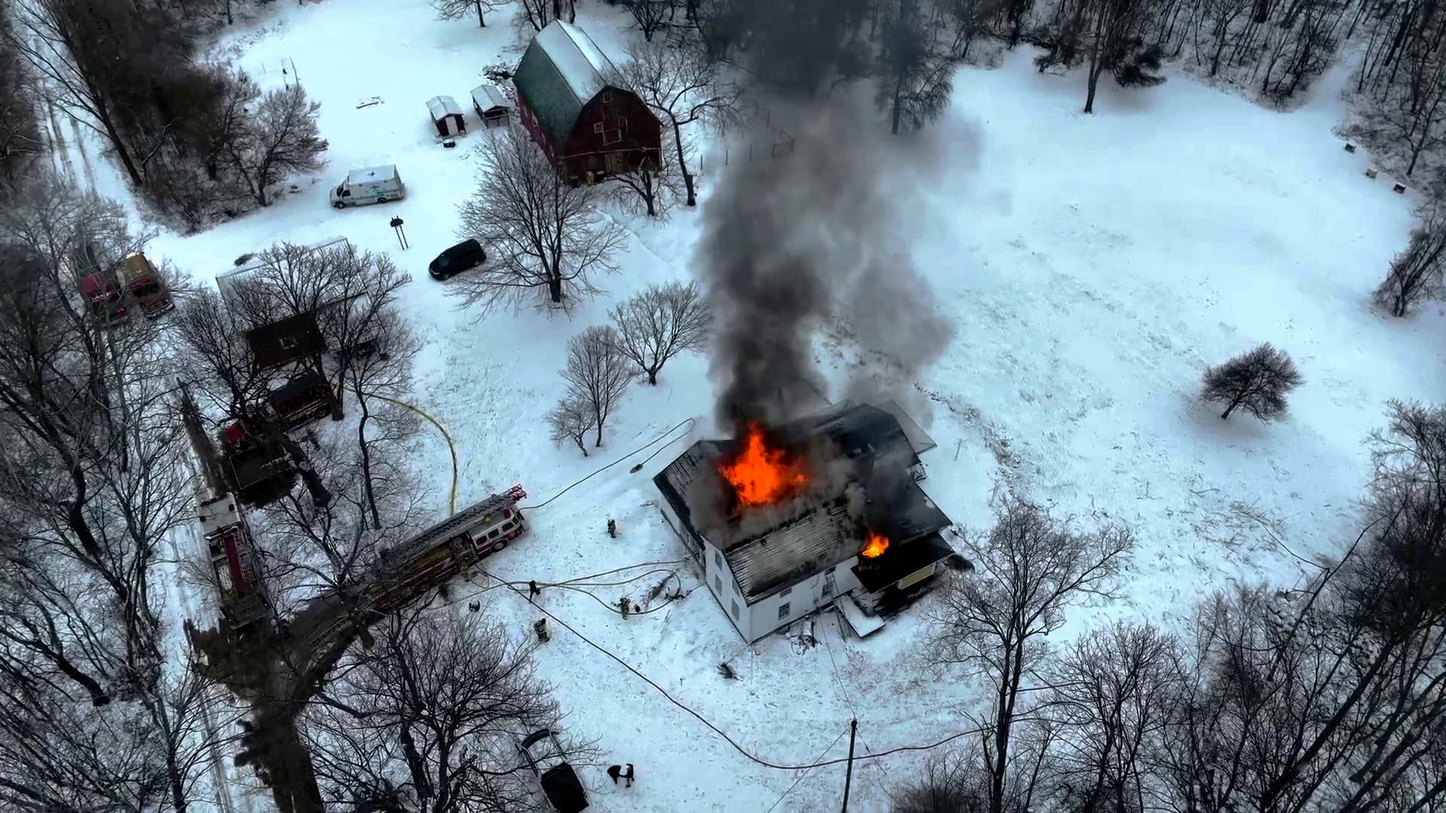fire: (727, 431, 807, 508), (859, 531, 892, 557)
smoke: (723, 190, 814, 422)
